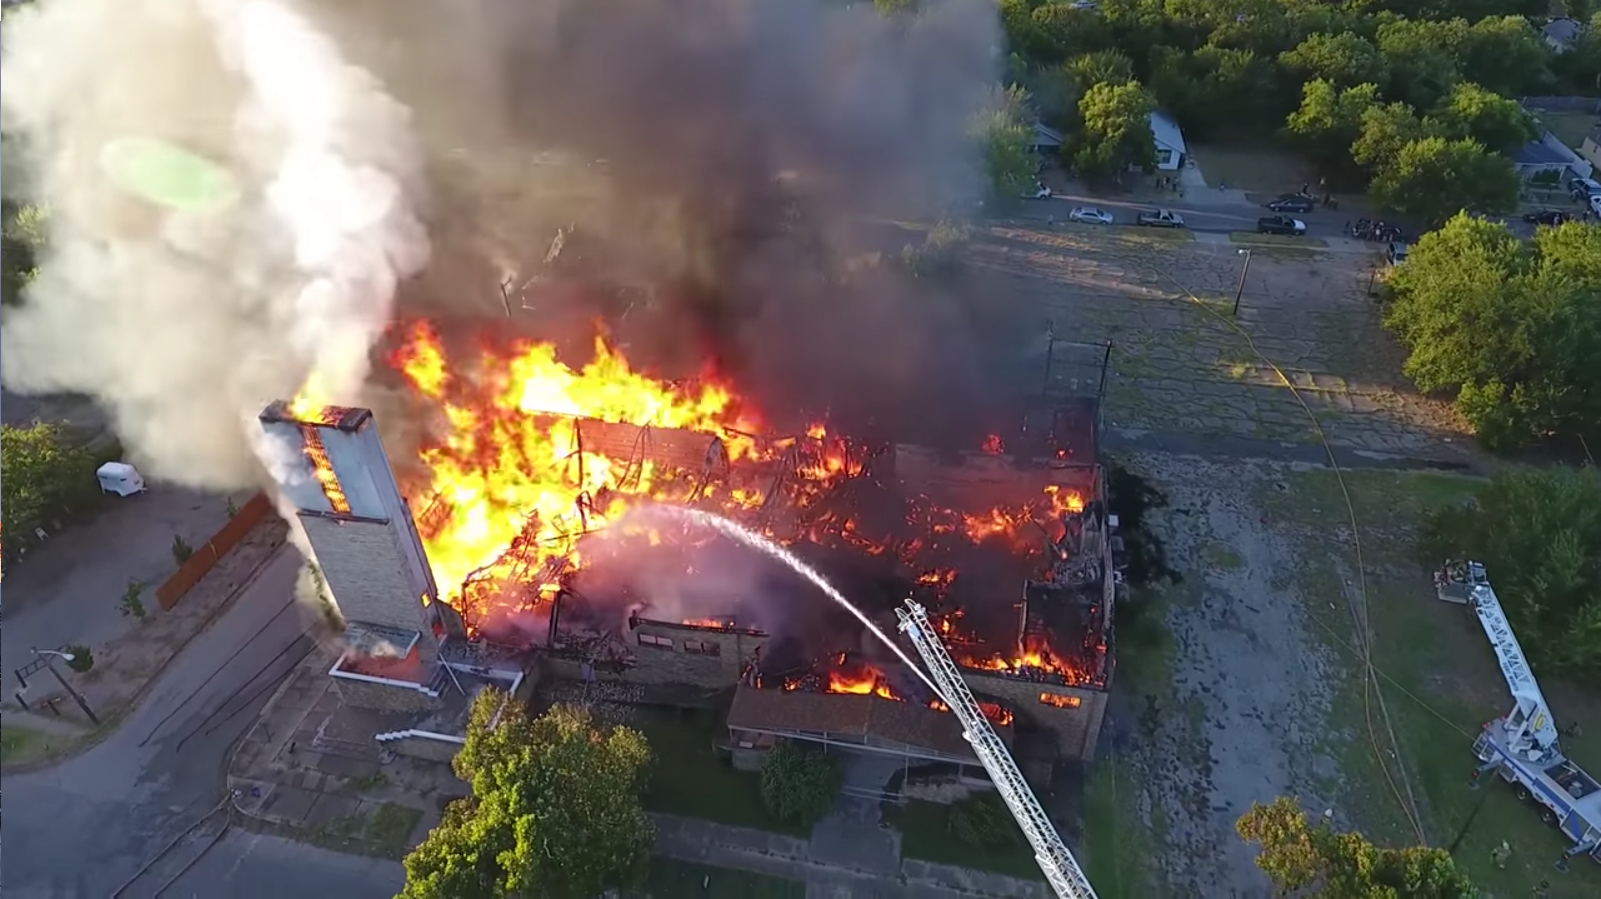fire: (377, 342, 964, 669)
